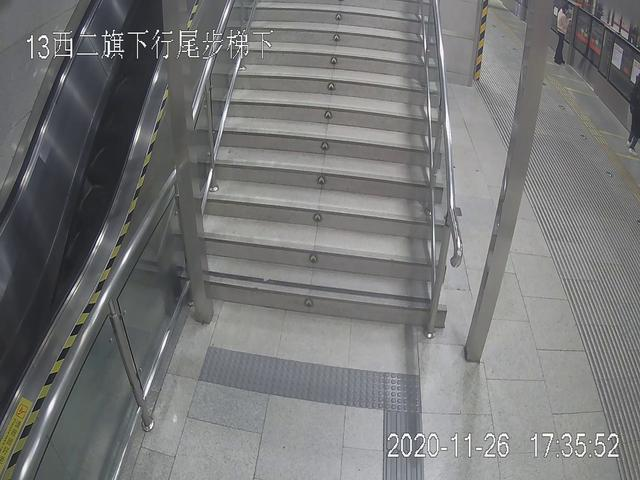person: (617, 65, 640, 172), (549, 1, 582, 66)
